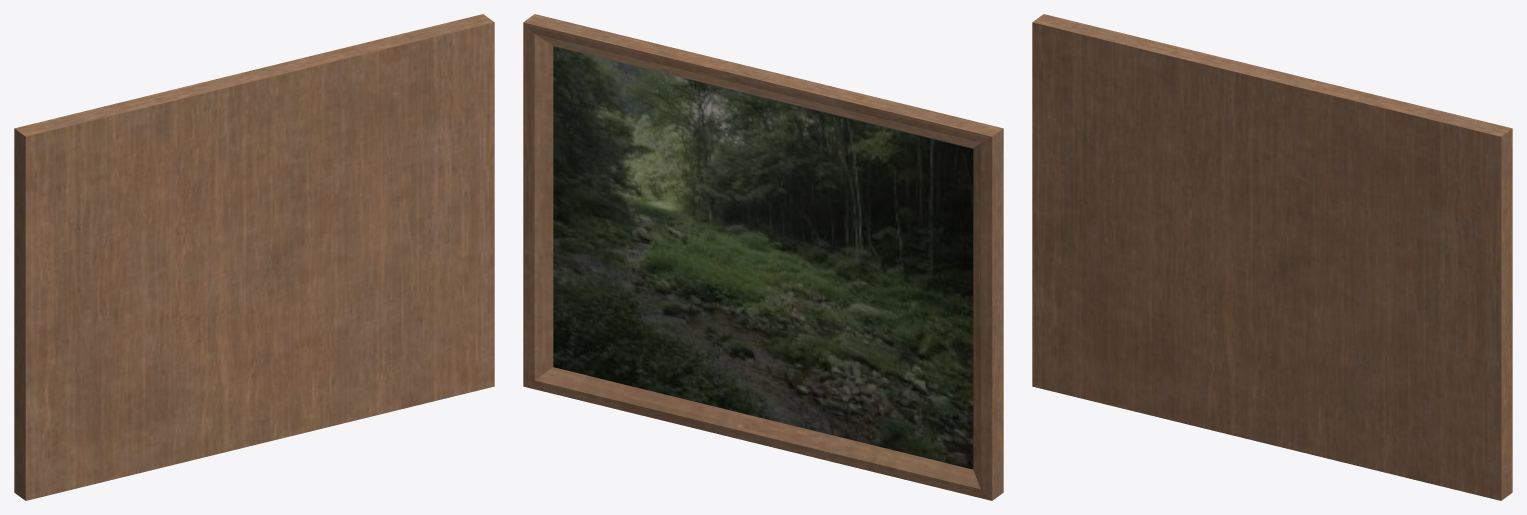
File: Paintings_04.glb
The picture shows the model from 3 angles, left to right: view 1: azimuth 30°, elevation 25°; view 2: azimuth 150°, elevation 25°; view 3: azimuth 330°, elevation 25°; orthographic projection.
Parts seen in each view (by area): view 1: Paintings_04; view 2: Paintings_04; view 3: Paintings_04.
Part boxes in pixels (x1,y1,x2,y2): Paintings_04: (14,14,494,500); Paintings_04: (523,14,1003,500); Paintings_04: (1032,14,1512,500).
Bounding box in the file's own units: 1.19 × 0.884 × 0.0505.
2 materials, 2 textured.
